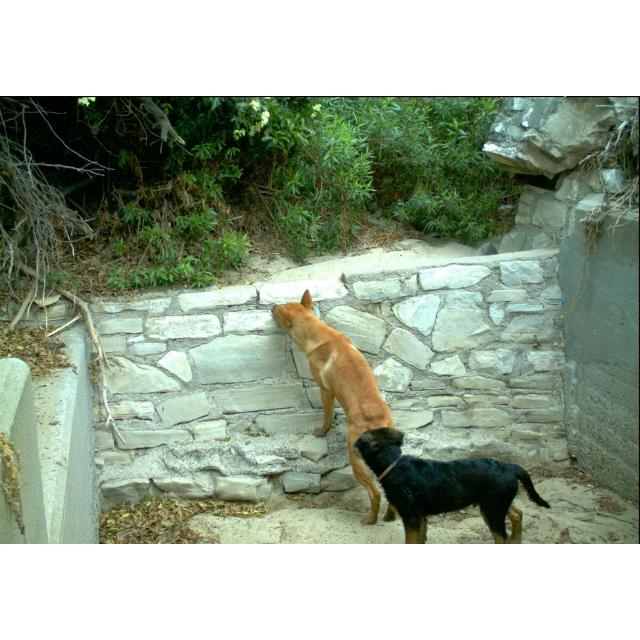animals: (272, 286, 396, 526), (353, 428, 551, 544)
